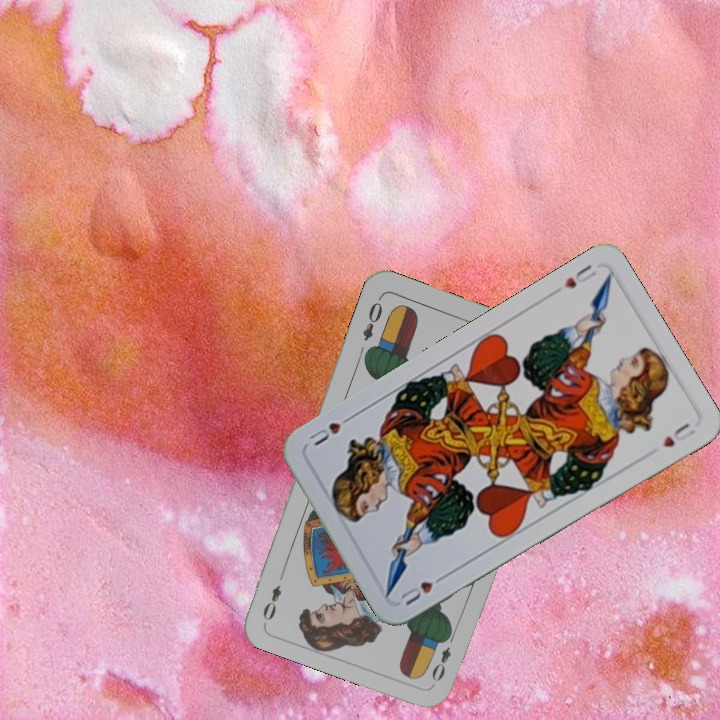EO: (427, 628, 458, 685), (358, 293, 385, 344)
HU: (396, 569, 450, 608), (560, 260, 599, 291)
